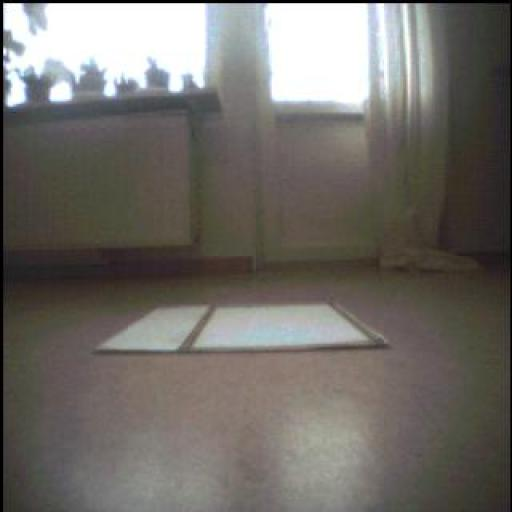Pad: (93, 302, 392, 353)
